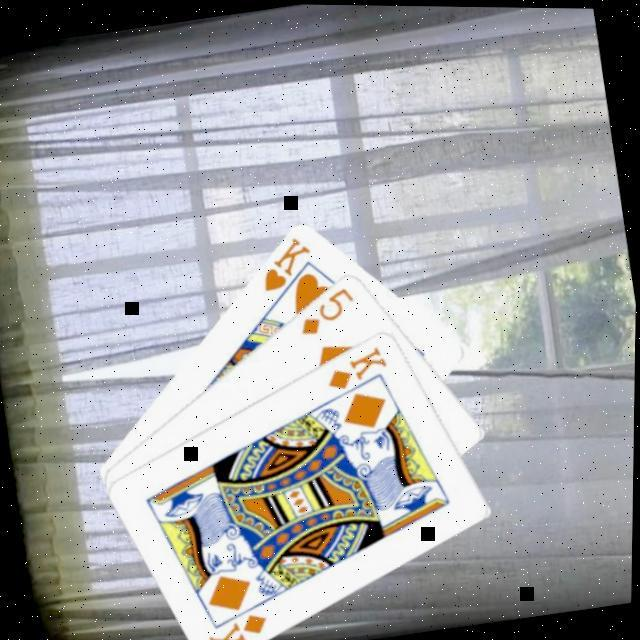5D: (292, 281, 363, 340)
KD: (320, 340, 394, 395), (203, 606, 275, 640)
KH: (253, 231, 320, 296)
